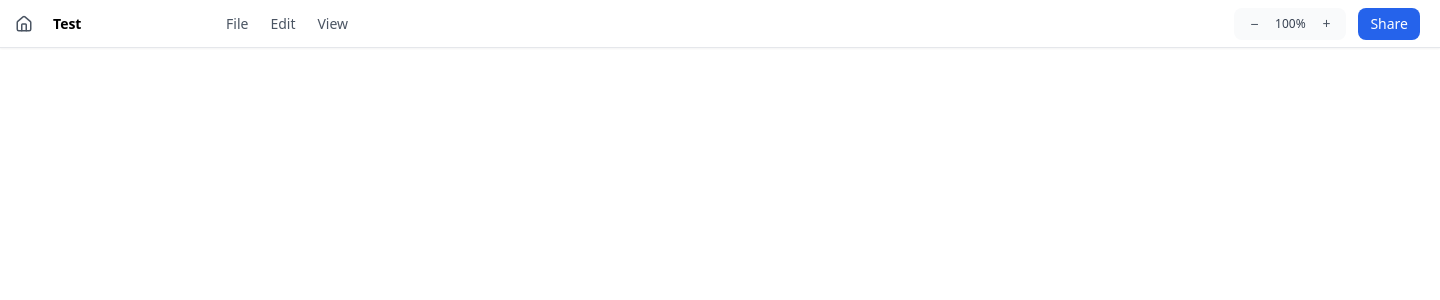
Test: MenuBar › renders Undo and Redo as enabled when canUndo/canRedo are true
This screenshot has width=1440, height=300.
Click the button "Edit". click: click(283, 24)
box: top-left (260, 10), bottom-right (306, 38)
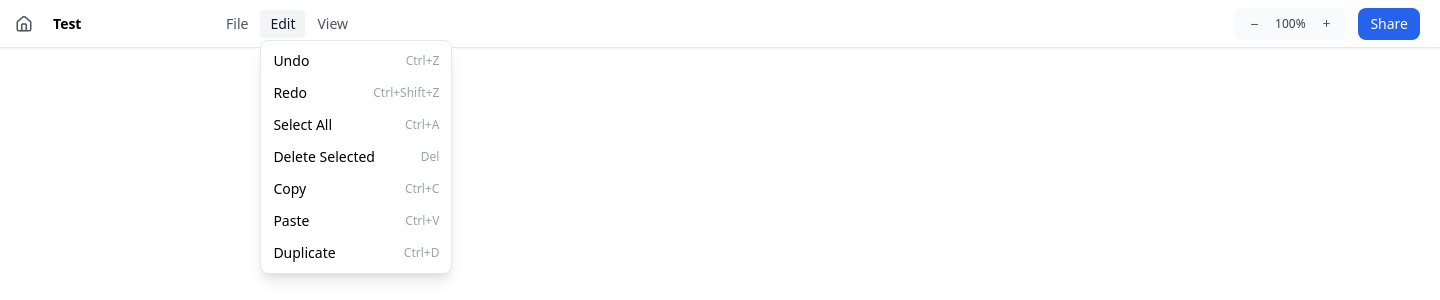
Check: the button "Undo Ctrl+Z" is enabled, box top-left (261, 44), bottom-right (451, 76)
Check: the button "Redo Ctrl+Shift+Z" is enabled, box top-left (261, 76), bottom-right (451, 108)
